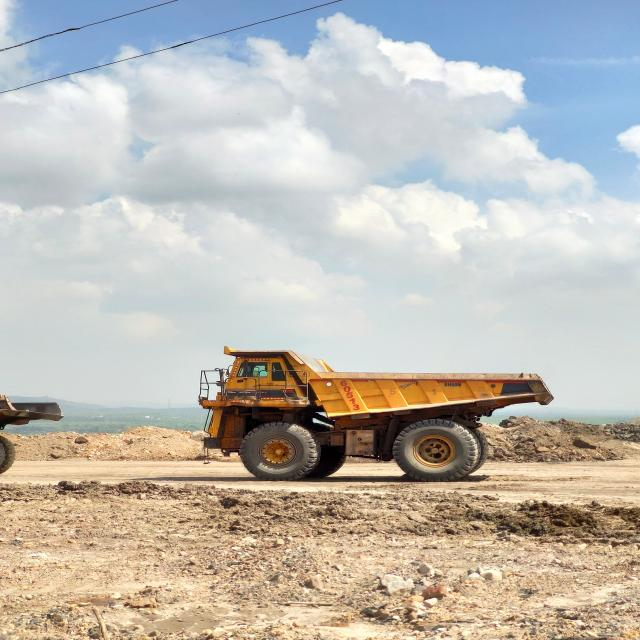dump_truck: (197, 346, 555, 483), (0, 394, 58, 474)
